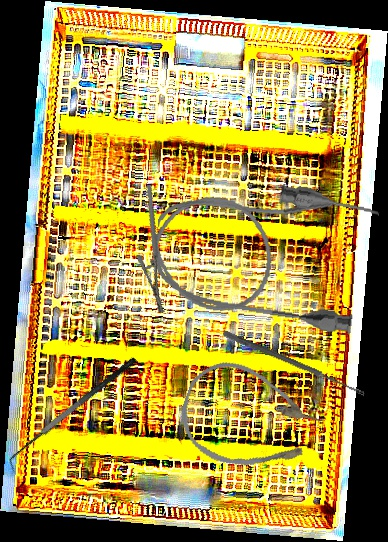Cannula: (146, 167, 382, 337), (169, 350, 331, 490)
Needle Holder: (118, 184, 193, 314)
Spatula Surgical: (0, 355, 146, 473)
Surgical Spoon: (221, 330, 367, 397)
